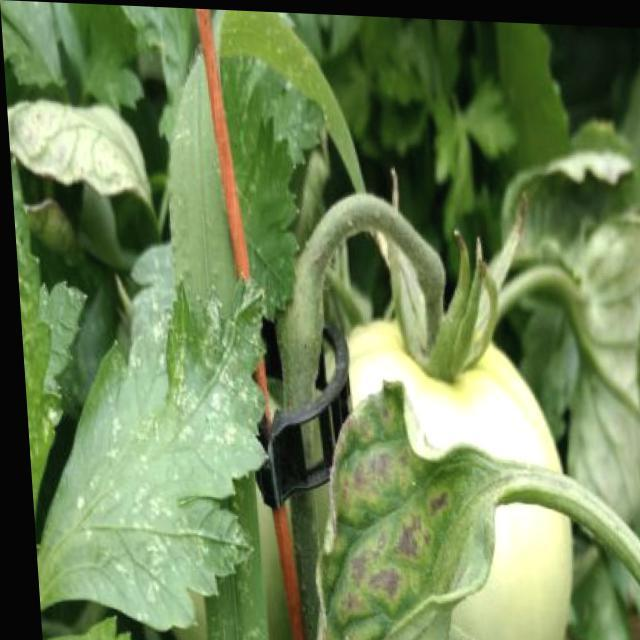Tomato yellow virus leaf: (15, 270, 276, 638)
